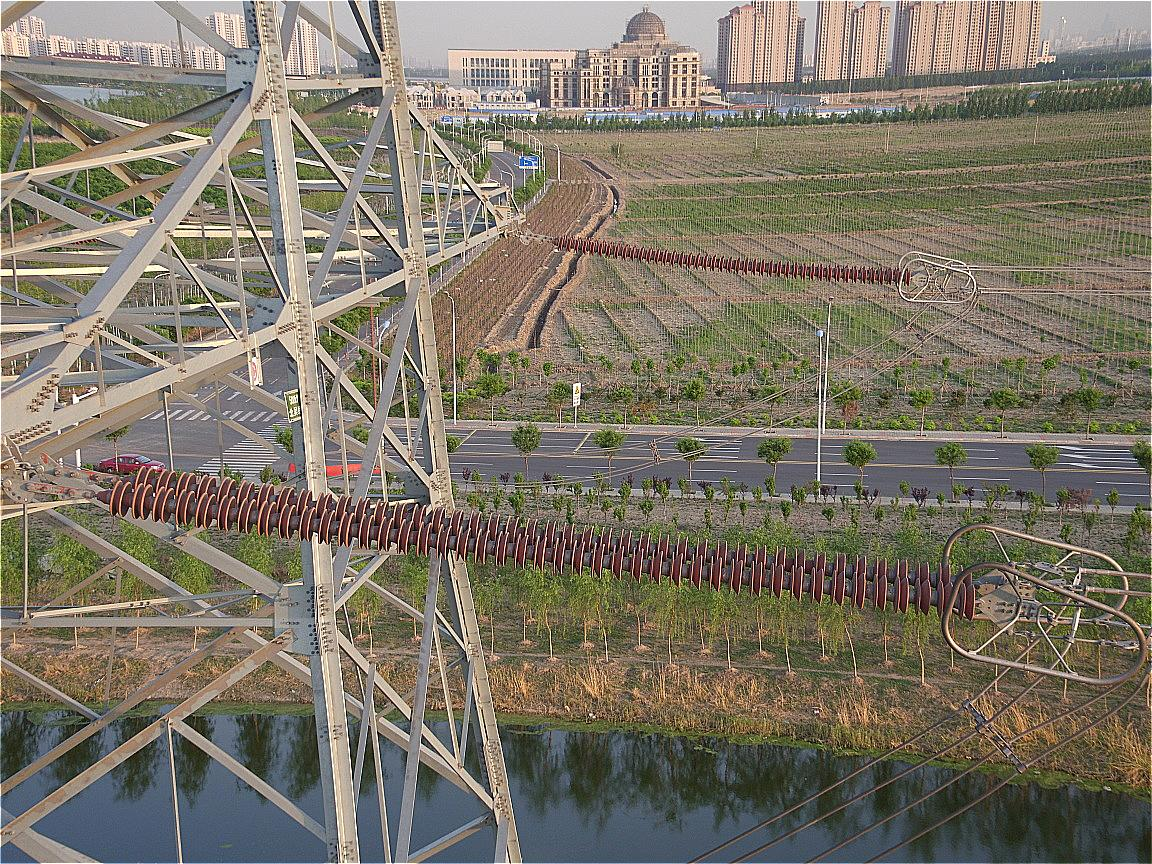insultor2: (96, 446, 1001, 631), (540, 216, 937, 303)
